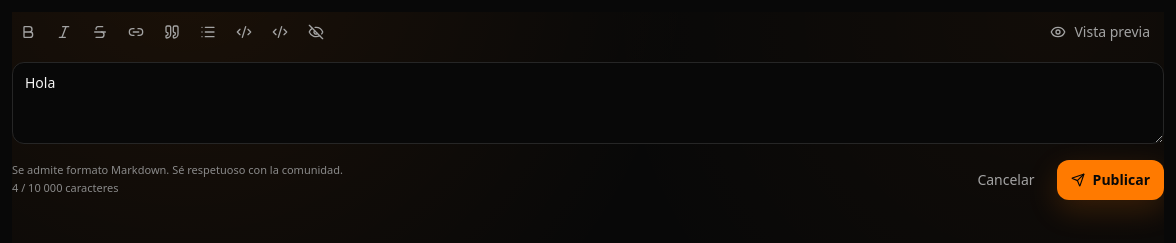
Test: CommentEditor › muestra la vista previa con el renderer compartido
Click the button "Vista previa".
click(1100, 32)  # box [1036, 12, 1164, 52]
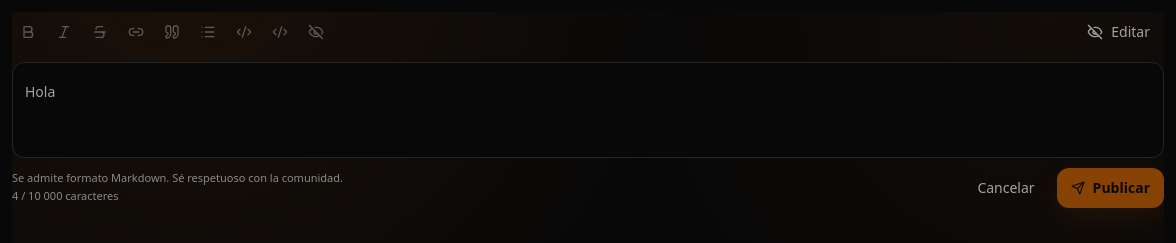
Expected: the element named "Vista previa del comentario" reads "Hola", [25, 82, 55, 101]
